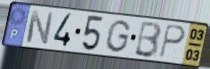4: (51, 12, 73, 50)
5: (80, 13, 106, 52)
B: (132, 20, 163, 60)
G: (104, 19, 133, 54)
N: (24, 9, 55, 46)
P: (158, 23, 187, 59)
